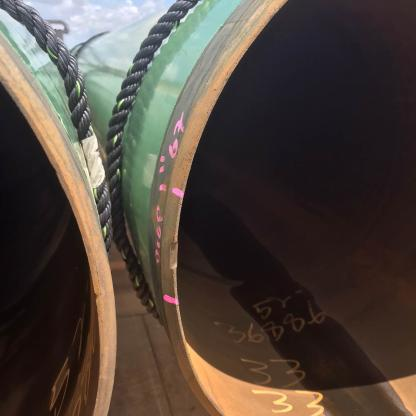Bevel: (160, 238, 189, 274)
